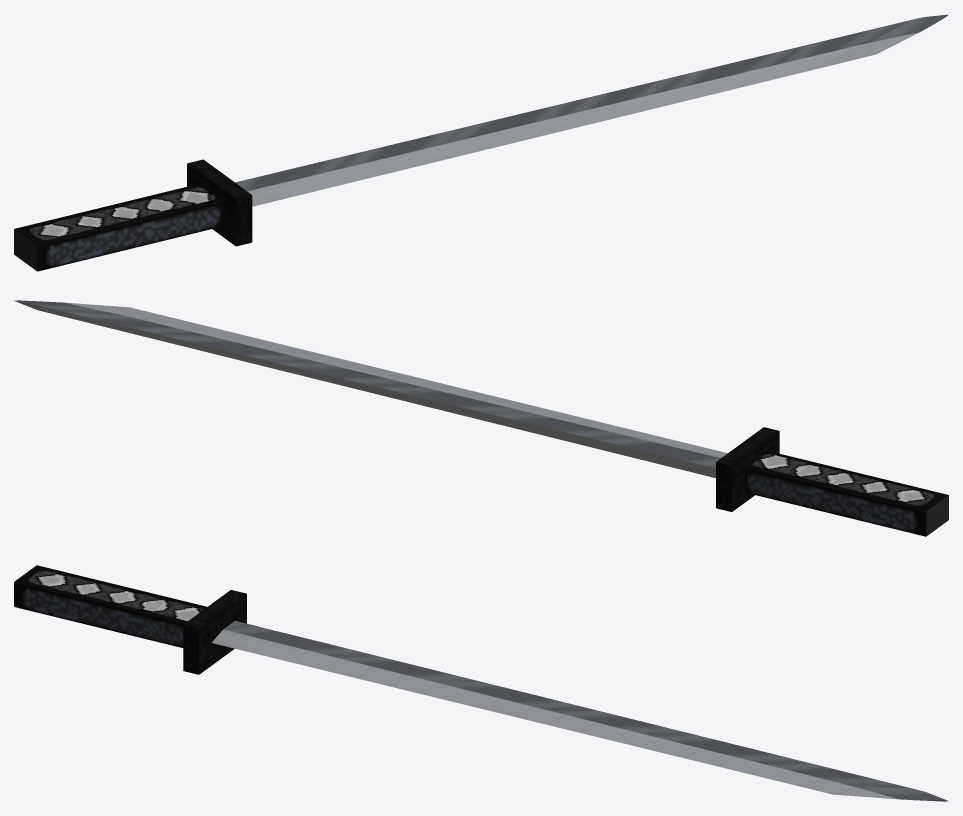
File: Katana 1.fbx
3 views of the same model, one above another, from view 1: azimuth 30°, elevation 25°; view 2: azimuth 150°, elevation 25°; view 3: azimuth 330°, elevation 25° (orthographic). The views are drawn at different scales.
Parts seen in each view (by area): view 1: Katana_Demir, Katana_Sap, Katana_Kabza; view 2: Katana_Demir, Katana_Sap, Katana_Kabza; view 3: Katana_Demir, Katana_Sap, Katana_Kabza.
Boxes of the visible parts, x1=… form: Katana_Demir: x1=235, y1=14, x2=948, y2=206; Katana_Sap: x1=14, y1=183, x2=223, y2=271; Katana_Kabza: x1=187, y1=159, x2=252, y2=246; Katana_Demir: x1=14, y1=300, x2=727, y2=477; Katana_Sap: x1=744, y1=450, x2=948, y2=536; Katana_Kabza: x1=716, y1=427, x2=779, y2=511; Katana_Demir: x1=212, y1=621, x2=948, y2=801; Katana_Sap: x1=14, y1=565, x2=206, y2=647; Katana_Kabza: x1=183, y1=590, x2=246, y2=674.
Bounding box in the file's own units: 197 × 17.93 × 9.63.
Materials: 1 (1 with a texture image).
